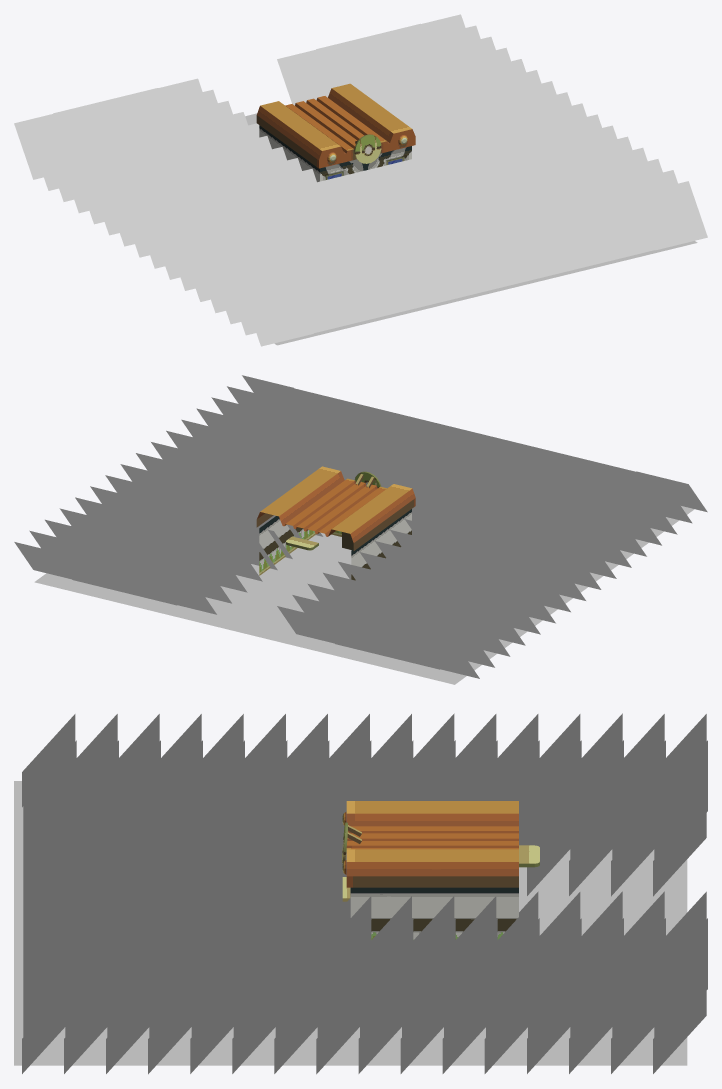
Rendered from Safari Zone_Areas - Access.dae.
The picture shows the model from 3 angles, top to bottom: view 1: azimuth 30°, elevation 25°; view 2: azimuth 150°, elevation 25°; view 3: azimuth 270°, elevation 25°; orthographic projection. The views are drawn at different scales.
Visible parts, largest first — view 1: m_safari_02_03c; view 2: m_safari_02_03c; view 3: m_safari_02_03c.
Part boxes in pixels (x1,y1,x2,y2): m_safari_02_03c: (14,14,707,346); m_safari_02_03c: (14,375,707,684); m_safari_02_03c: (14,713,707,1074).
Bounding box in the file's own units: 544 × 528 × 82.89.
